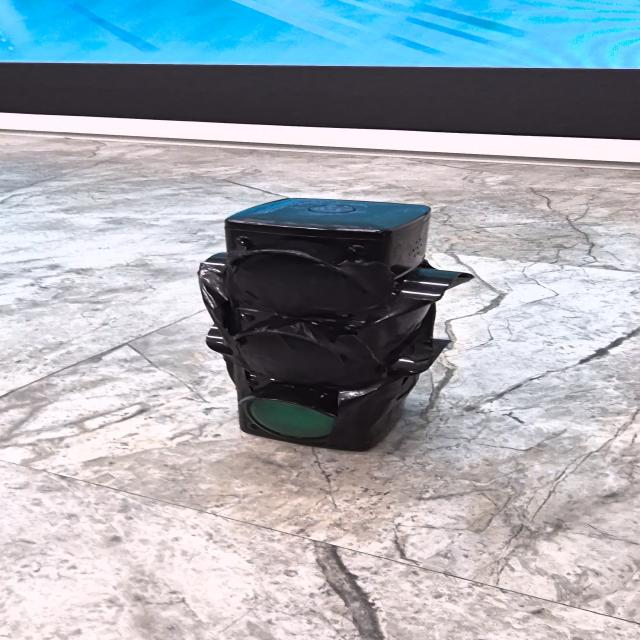green_light: (249, 400, 336, 437)
